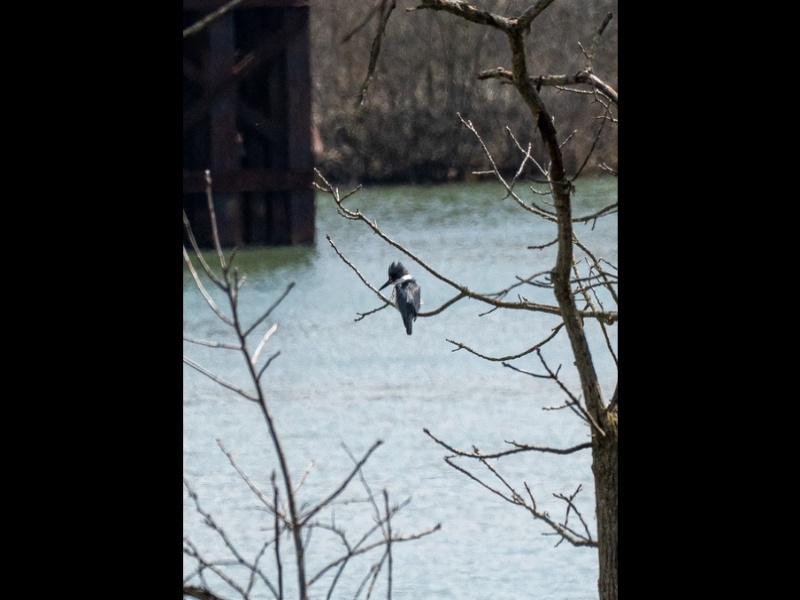kingfisher: (377, 262, 422, 337)
